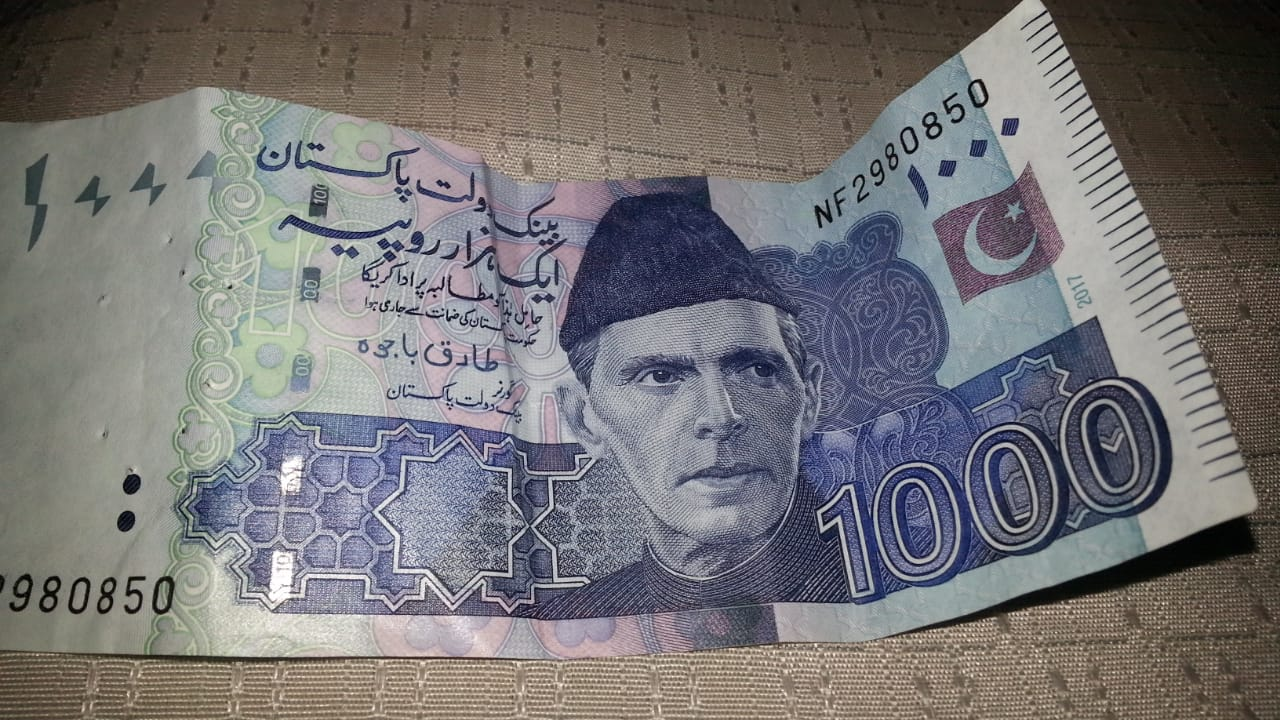1000 rupee: (43, 41, 1263, 658)
